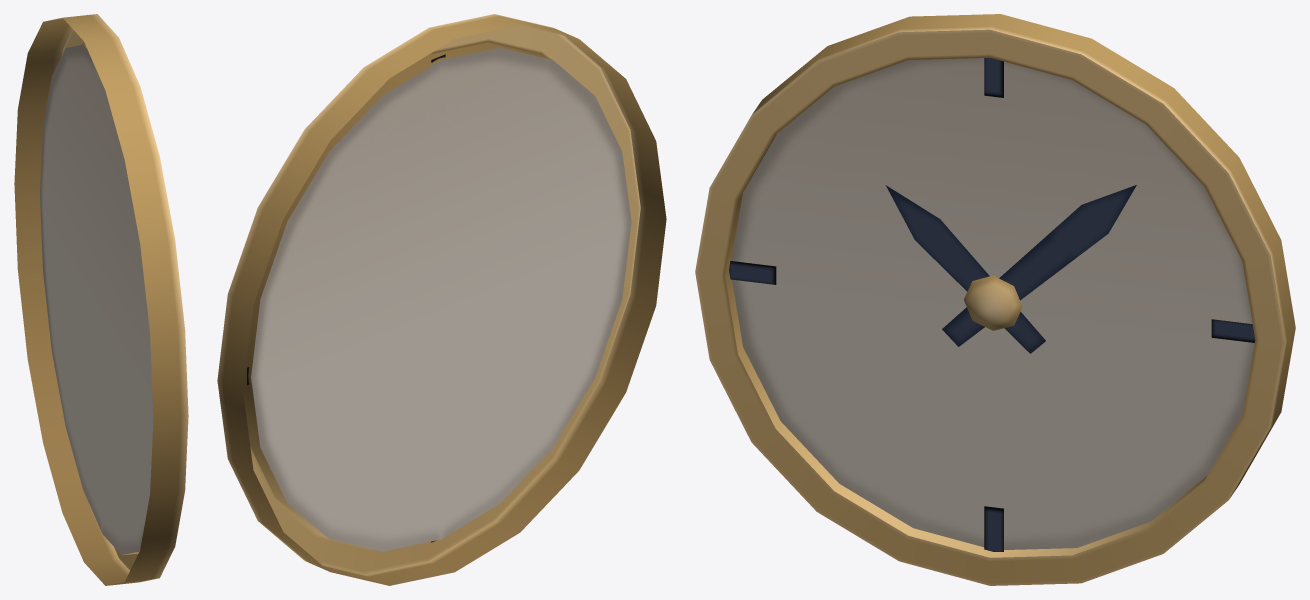
Rendered from jia_daoju3.FBX.
The picture shows the model from 3 angles, left to right: view 1: azimuth 30°, elevation 25°; view 2: azimuth 150°, elevation 25°; view 3: azimuth 270°, elevation 25°; orthographic projection. The views are drawn at different scales.
Visible parts, largest first — view 1: jia_daoju3; view 2: jia_daoju3; view 3: jia_daoju3.
Boxes of the visible parts, x1,y1,x2,y2 form: jia_daoju3: [14, 14, 188, 585]; jia_daoju3: [217, 14, 666, 585]; jia_daoju3: [695, 14, 1295, 585].
Size of the model in its own units: 20.17 by 60 by 58.72.
